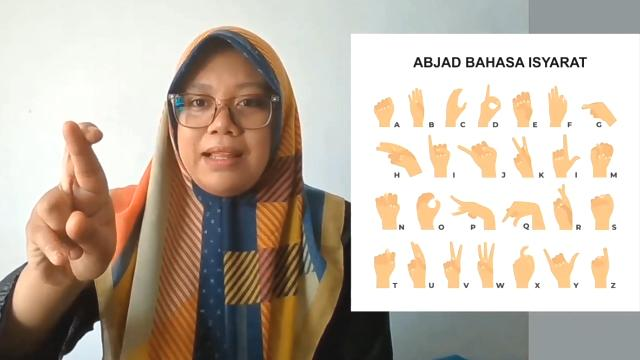R: (20, 115, 120, 286)
